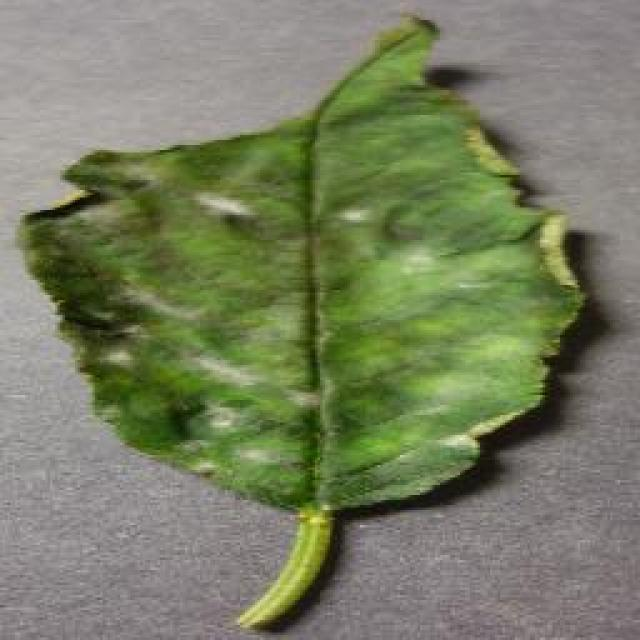Cherry___Powdery_mildew: (2, 5, 598, 640)
